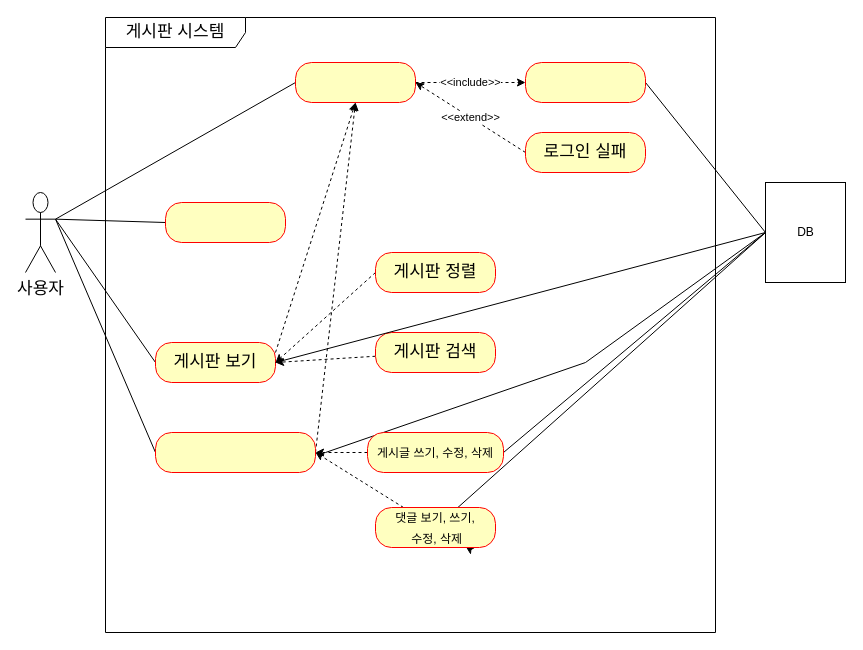
This 863x650 diagram has some shape labels left out. The centre of each missing label's shape, as x and y in pixels:
게시글 보기: (x=235, y=452)
인증: (x=585, y=82)
회원 가입: (x=225, y=222)
회원 로그인: (x=355, y=82)
